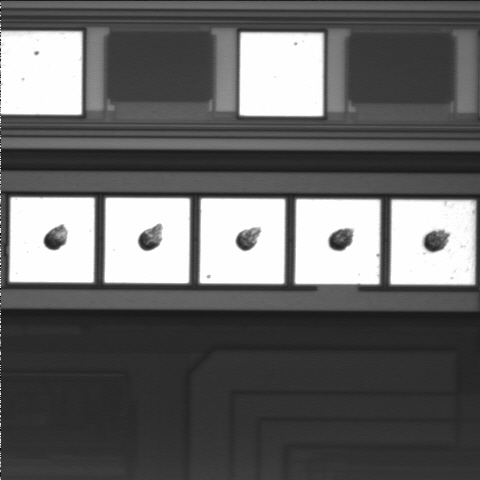pad: (200, 198, 285, 284), (105, 198, 190, 283), (295, 199, 380, 284), (10, 197, 94, 283), (391, 200, 475, 285), (240, 33, 323, 116)
